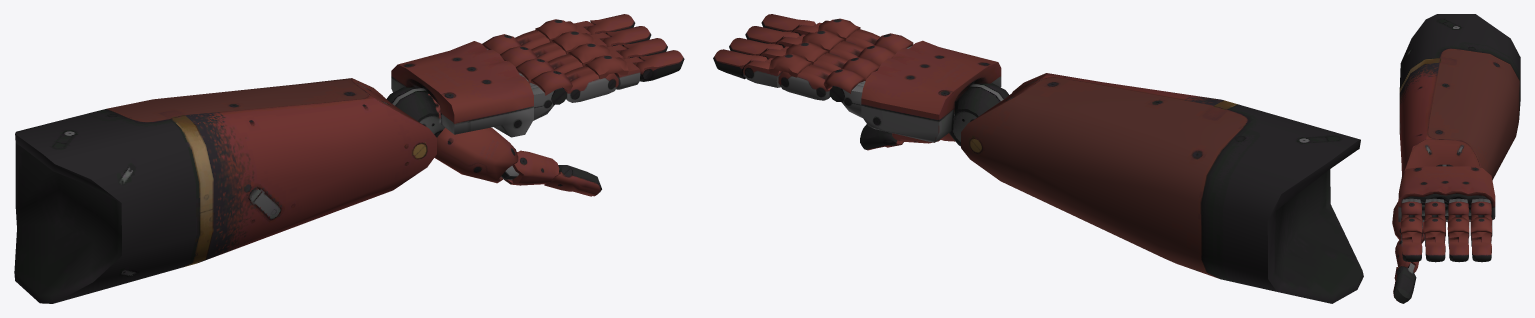
The picture shows the model from 3 angles, left to right: view 1: azimuth 30°, elevation 25°; view 2: azimuth 150°, elevation 25°; view 3: azimuth 270°, elevation 25°; orthographic projection. The views are drawn at different scales.
Parts seen in each view (by area): view 1: Object_3, Object_4; view 2: Object_3; view 3: Object_3, Object_4.
Boxes of the visible parts, x1,y1,x2,y2 form: Object_3: (14, 14, 684, 303); Object_4: (511, 150, 559, 185); Object_3: (713, 14, 1363, 303); Object_3: (1392, 14, 1520, 303); Object_4: (1395, 239, 1406, 267).
Size of the model in its own units: 45.83 by 10.88 by 11.58.
1 material, 1 textured.
